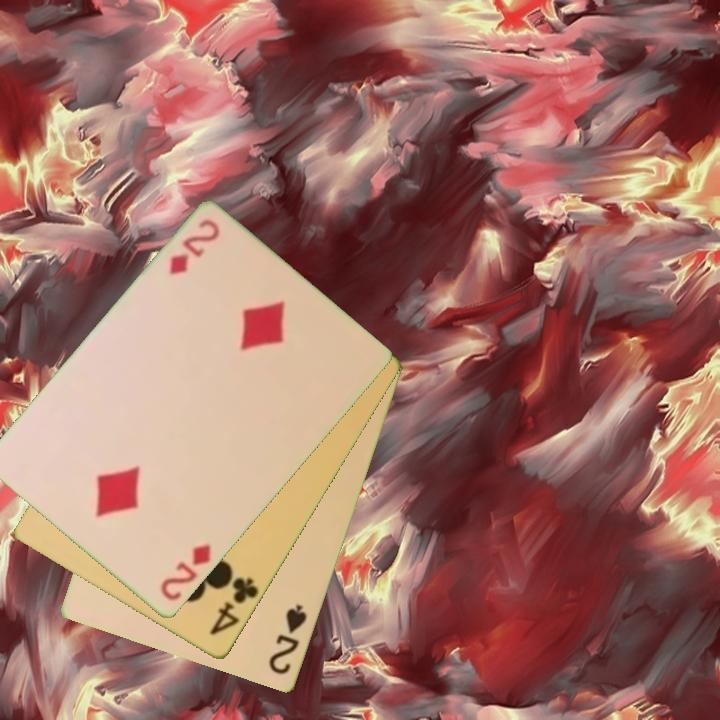2d: (165, 216, 223, 279), (157, 541, 214, 605)
2s: (265, 601, 310, 678)
4c: (206, 574, 262, 639)
